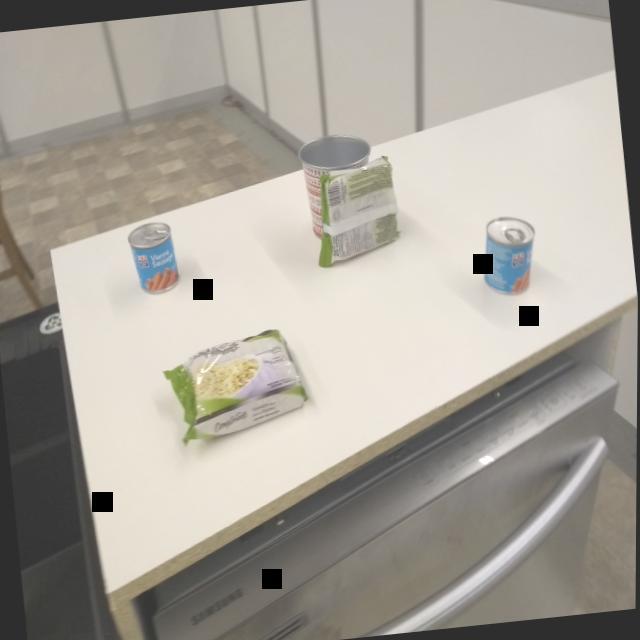noodles: (156, 320, 317, 450), (303, 153, 410, 277)
sausages: (473, 204, 544, 302), (124, 214, 186, 300)
